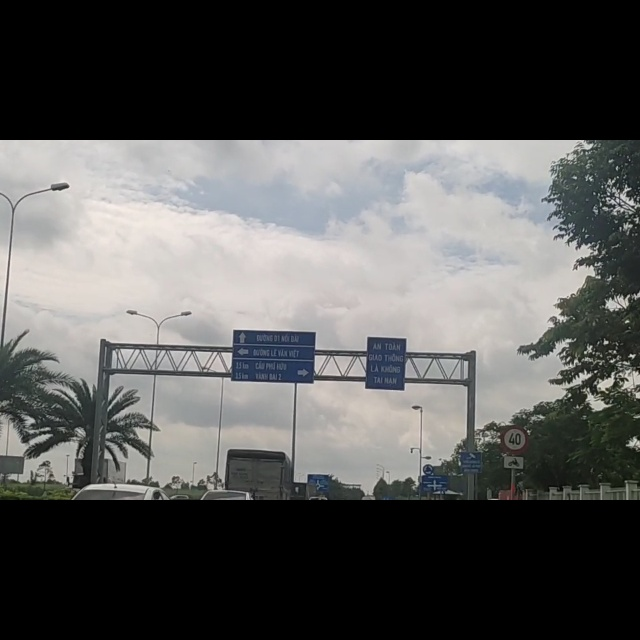bien_chi_dan: (502, 506, 529, 557), (503, 559, 526, 587)
